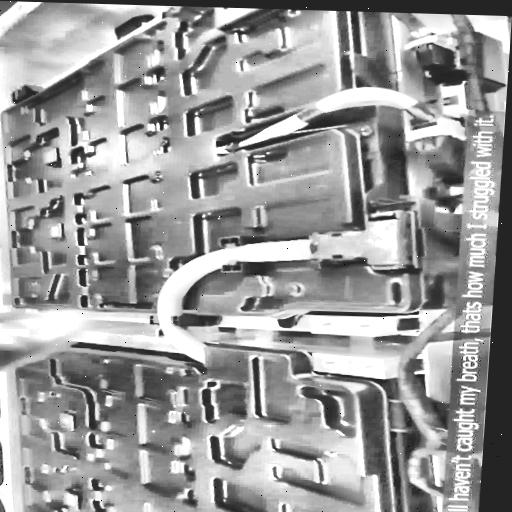high_volt_cable: (150, 206, 408, 366)
low_volt_cable: (233, 82, 442, 148)
